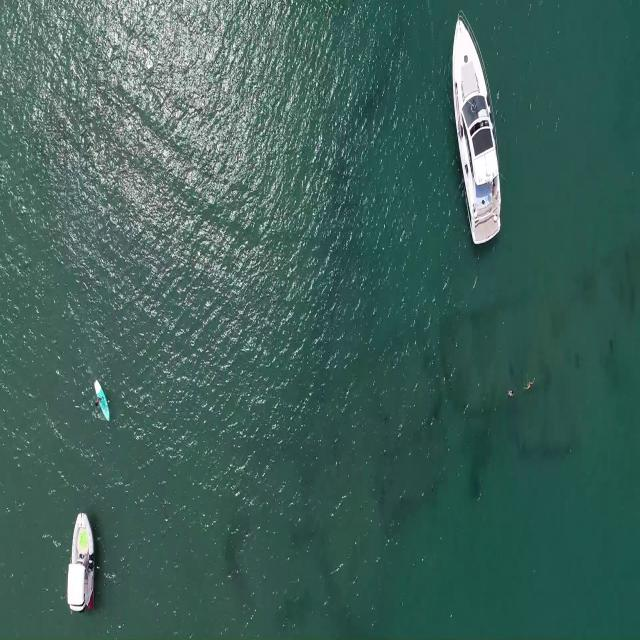boat: (449, 9, 504, 247), (66, 507, 98, 619)
person: (523, 379, 537, 393), (92, 394, 103, 408), (507, 389, 515, 399)
surfboard: (95, 376, 110, 427)
